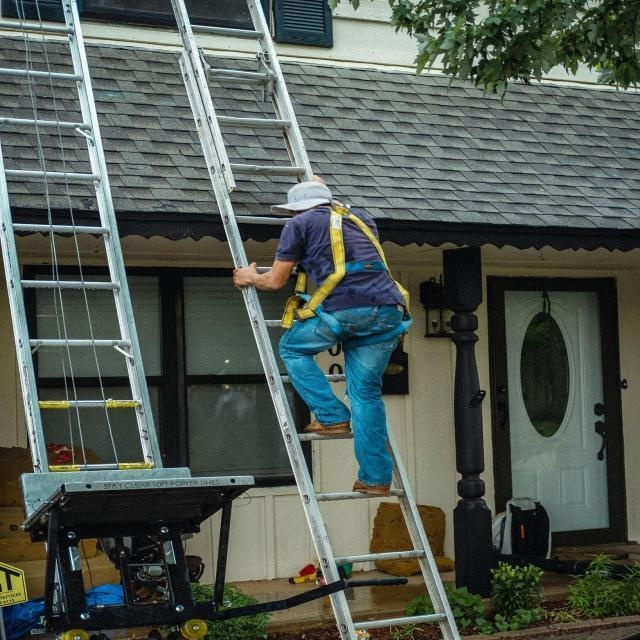Arnes_seguridad: (286, 203, 410, 329)
